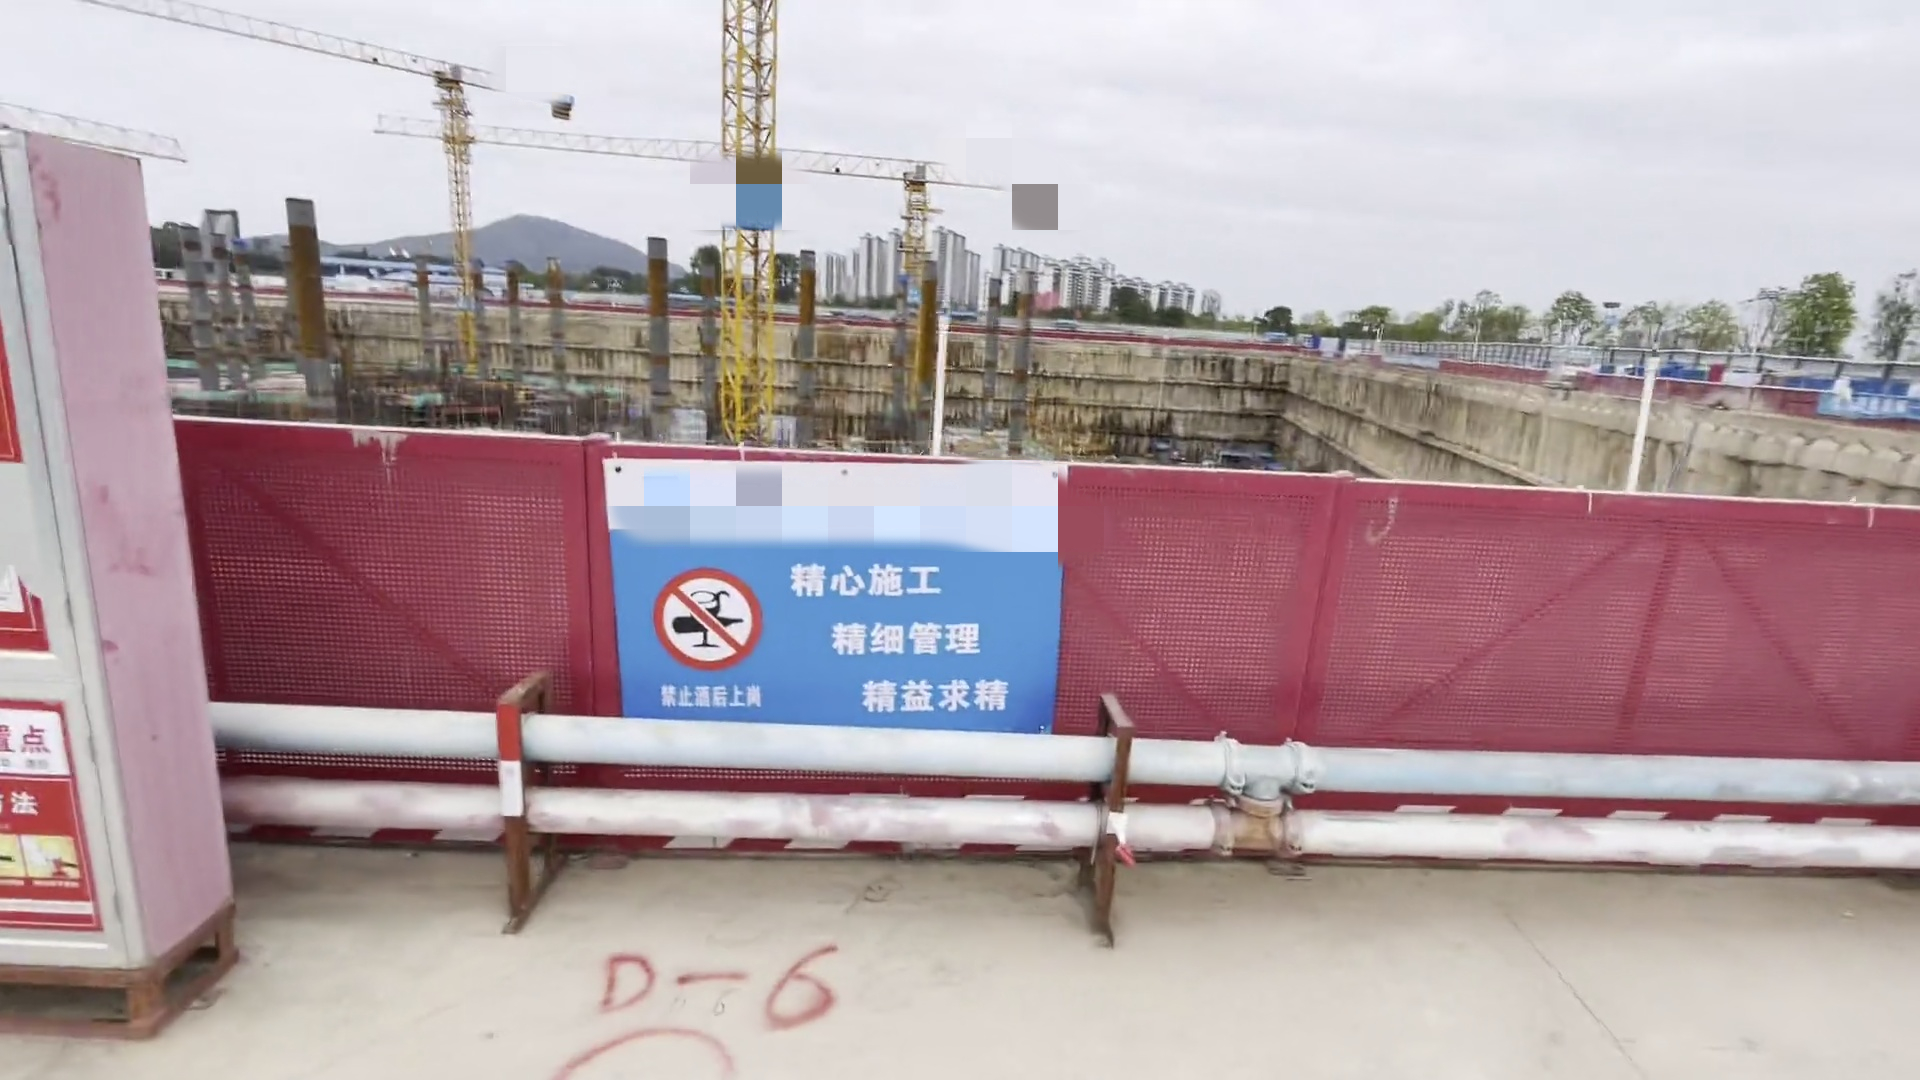fence: (214, 340, 1920, 872)
slogan: (775, 539, 1022, 732)
